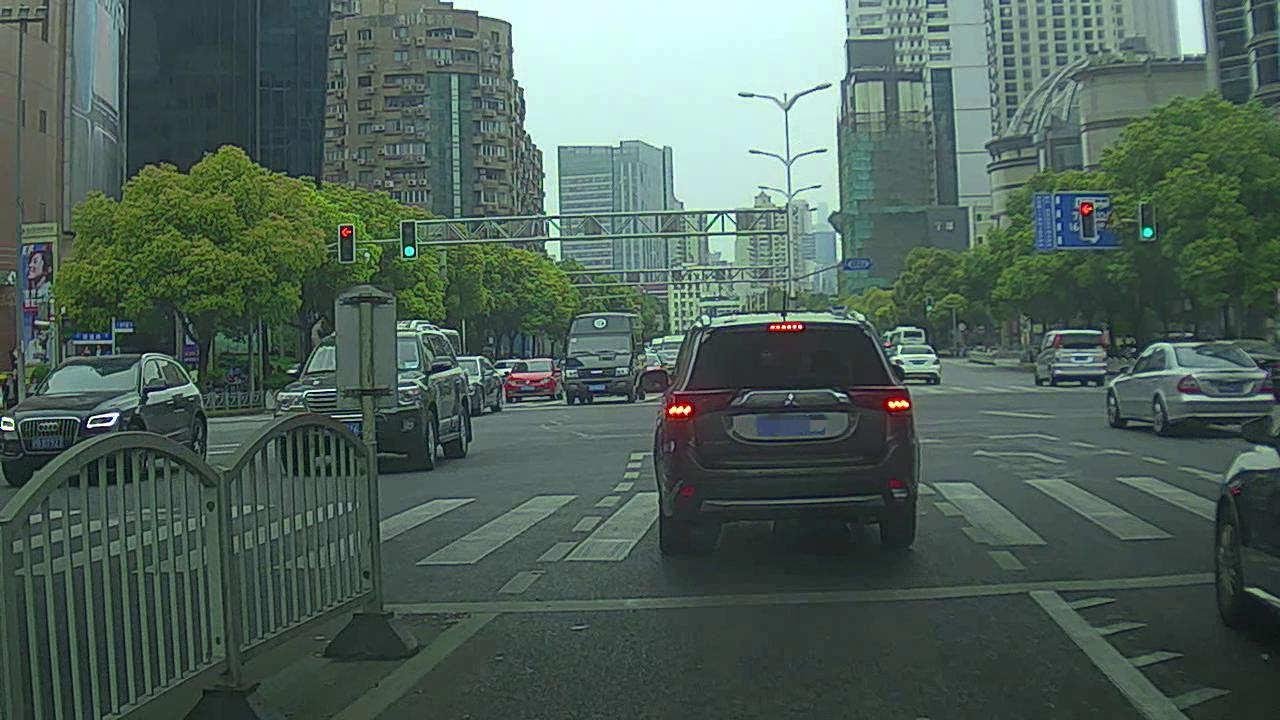traffic_light: (1138, 199, 1159, 241), (400, 220, 420, 264), (338, 222, 357, 264), (1080, 197, 1098, 239)
